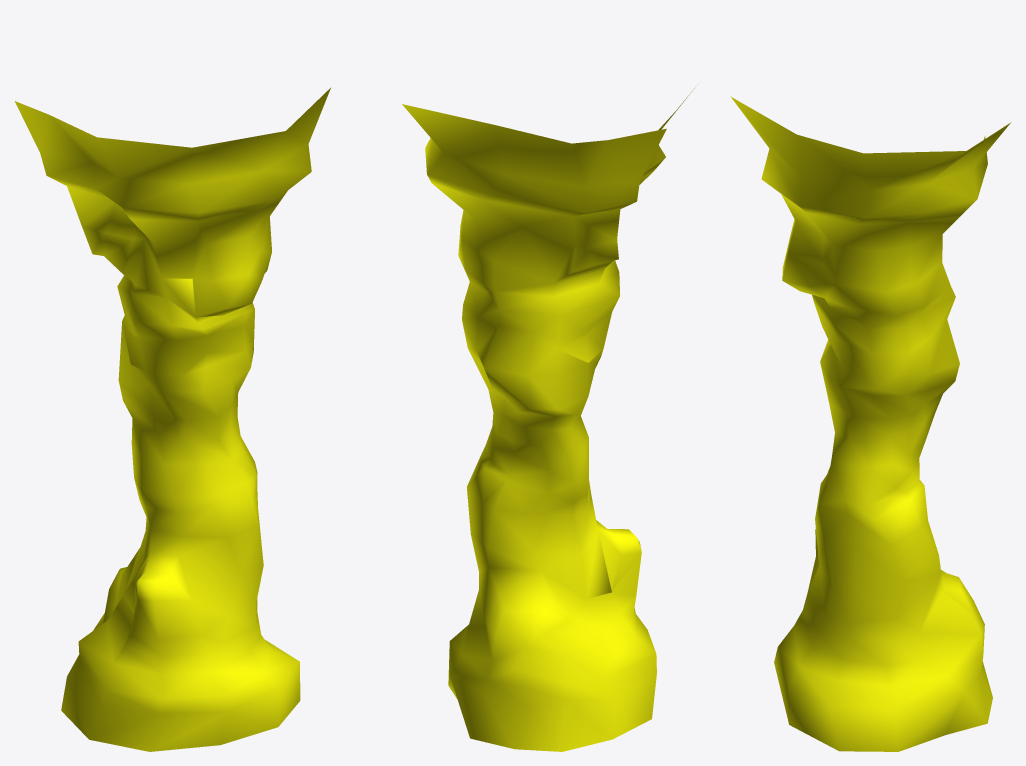
File: rock_pillar_06.glb
3 views of the same model, side by side, from view 1: azimuth 30°, elevation 25°; view 2: azimuth 150°, elevation 25°; view 3: azimuth 270°, elevation 25° (orthographic).
Visible parts, largest first — view 1: rock_pillar_06; view 2: rock_pillar_06; view 3: rock_pillar_06.
Boxes of the visible parts, x1=… form: rock_pillar_06: x1=14, y1=88, x2=330, y2=751; rock_pillar_06: x1=402, y1=88, x2=694, y2=751; rock_pillar_06: x1=730, y1=96, x2=1011, y2=751.
Size of the model in its own units: 47.06 by 98.72 by 39.91.
1 material, 1 textured.
